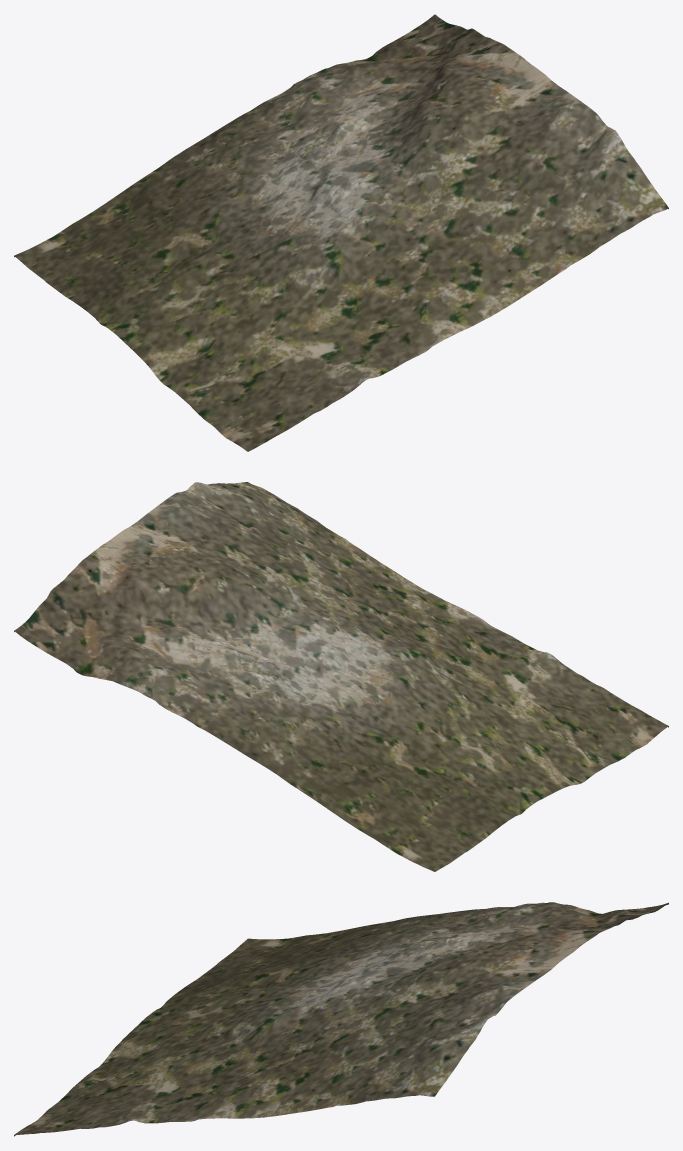
3 renders of one model, top to bottom at view 1: azimuth 30°, elevation 25°; view 2: azimuth 150°, elevation 25°; view 3: azimuth 330°, elevation 25°, orthographic.
Size of the model in its own units: 250 by 107 by 241.
Materials: 1 (1 with a texture image).
